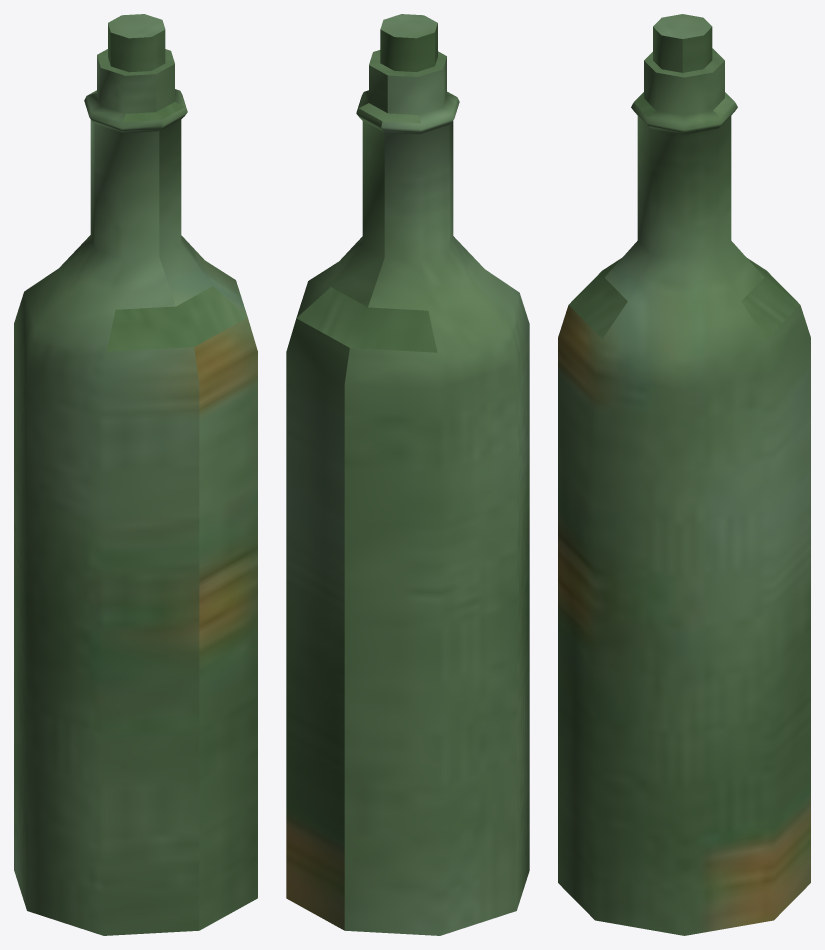
The model's file is objects_bottle_1.glb.
3 views of the same model, side by side, from view 1: azimuth 30°, elevation 25°; view 2: azimuth 150°, elevation 25°; view 3: azimuth 270°, elevation 25° (orthographic).
Parts seen in each view (by area): view 1: bottle_1; view 2: bottle_1; view 3: bottle_1.
Boxes of the visible parts, x1,y1,x2,y2 form: bottle_1: (14,14,257,935); bottle_1: (286,14,529,935); bottle_1: (558,14,810,935).
Size of the model in its own units: 0.1334 by 0.5023 by 0.1345.
Materials: 1 (1 with a texture image).
